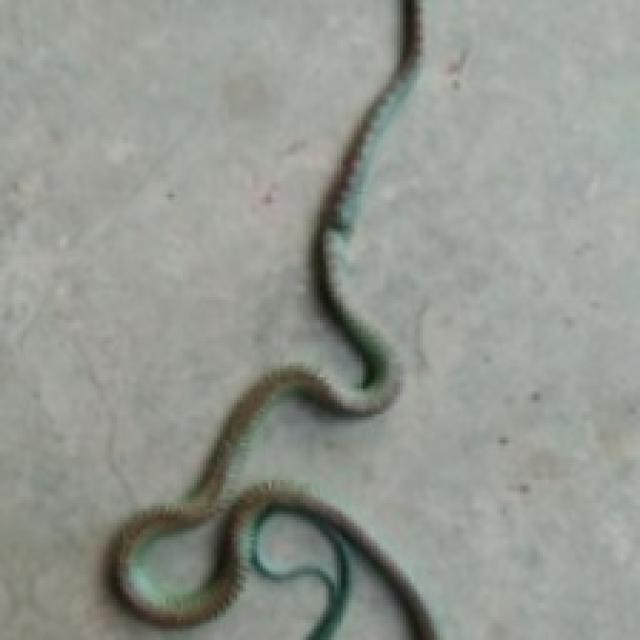paradise tree snake: (106, 0, 434, 637)
